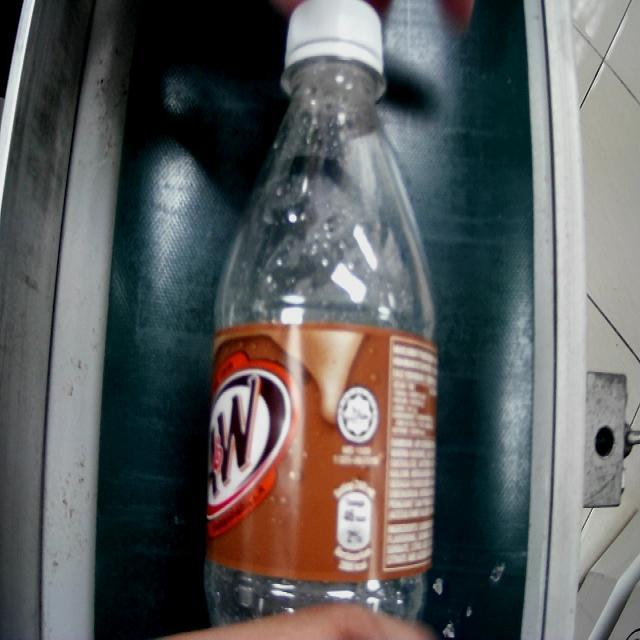Pet_Bottle: (205, 1, 440, 614)
